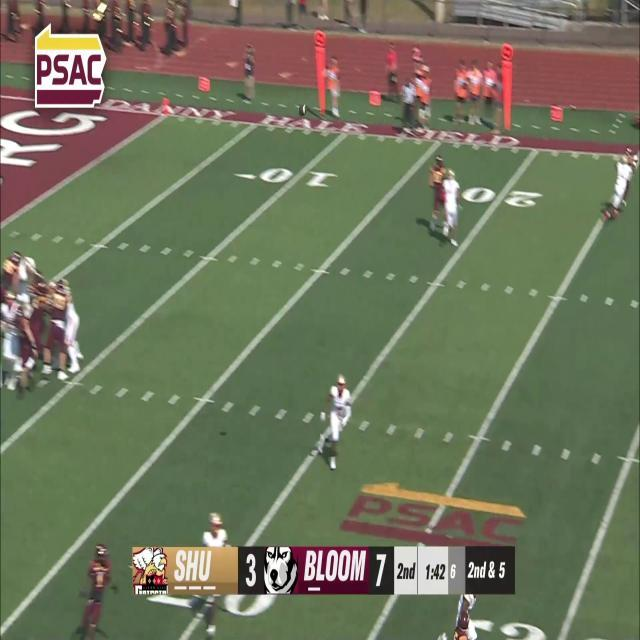football: (298, 102, 308, 118)
